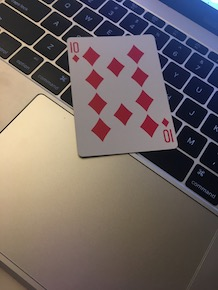TenOfDiamonds: (64, 30, 178, 158)
